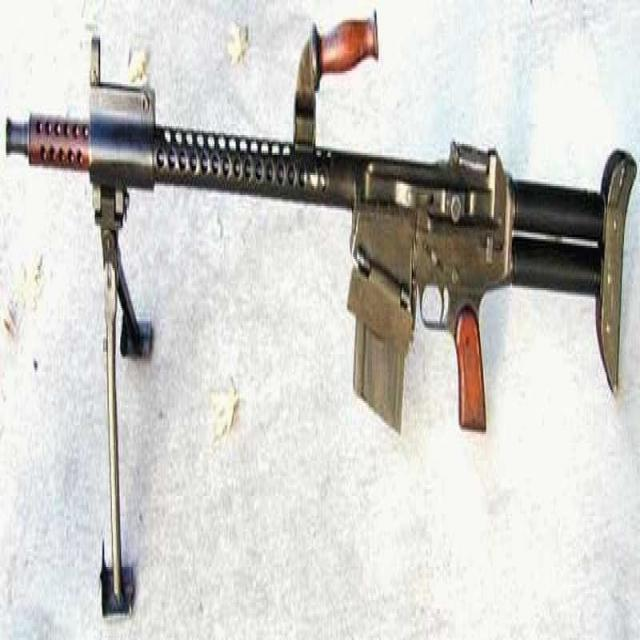weapon: (2, 22, 630, 481)
